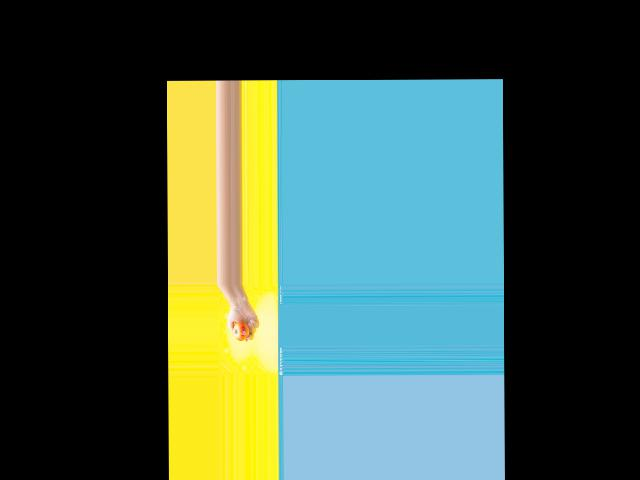tomato: (233, 321, 249, 340)
